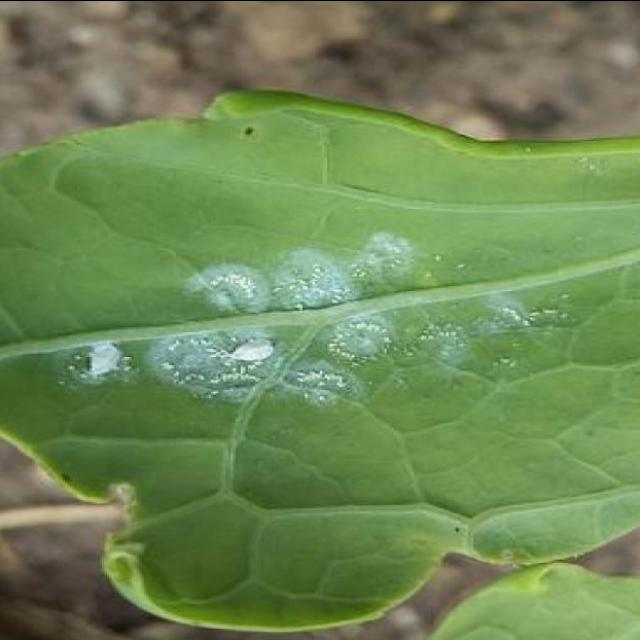Whitefly: (40, 214, 592, 422)
